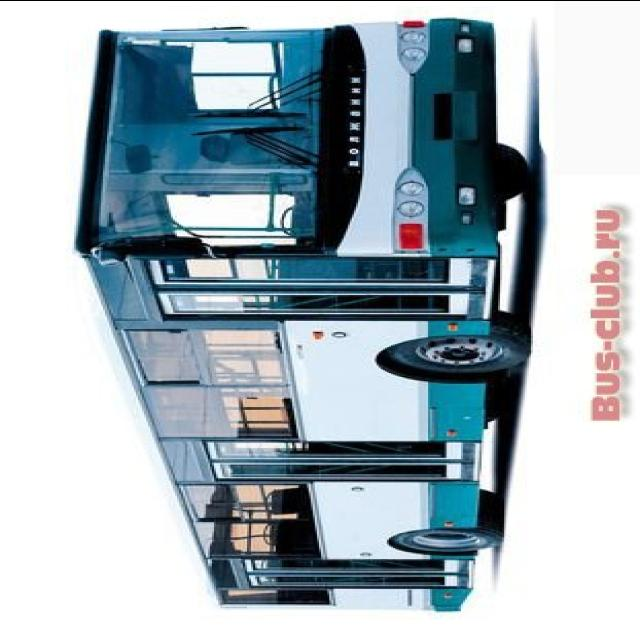bus: (69, 12, 532, 616)
